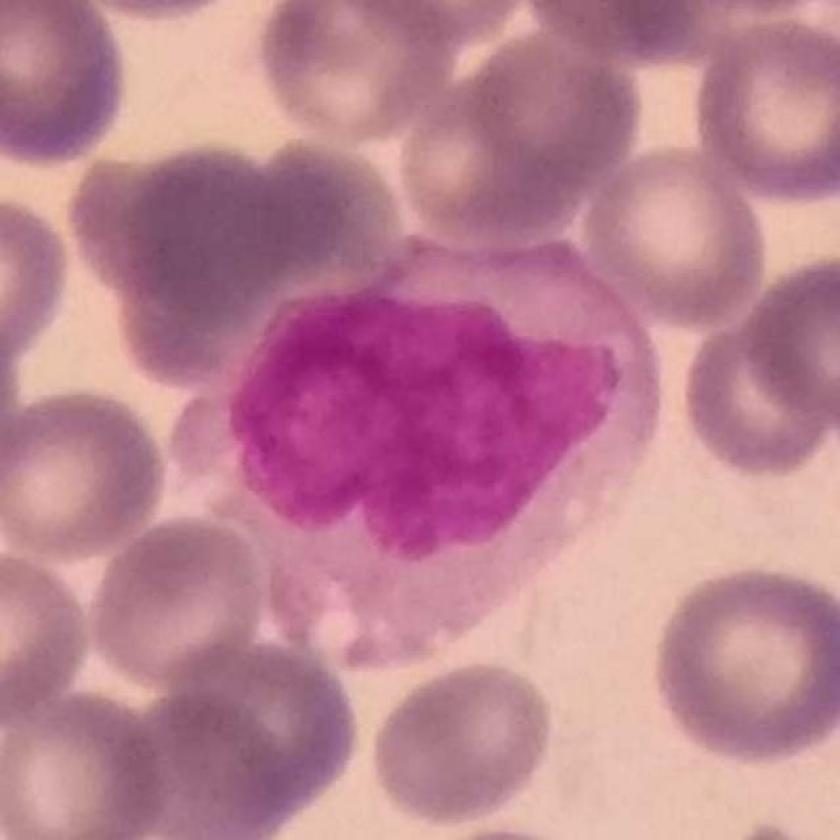monocyte: (164, 222, 674, 675)
